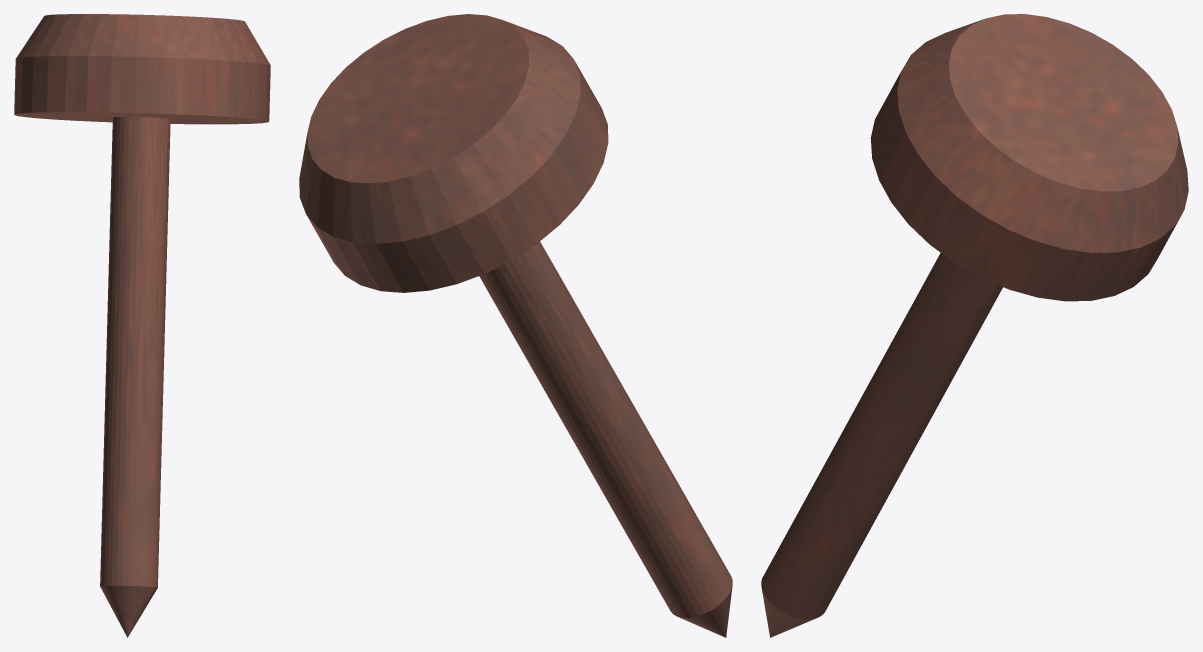
Rendered from Clavo.glb.
3 views of the same model, side by side, from view 1: azimuth 30°, elevation 25°; view 2: azimuth 150°, elevation 25°; view 3: azimuth 270°, elevation 25° (orthographic). The views are drawn at different scales.
Parts seen in each view (by area): view 1: Cylinder; view 2: Cylinder; view 3: Cylinder.
Boxes of the visible parts, x1,y1,x2,y2 form: Cylinder: (14, 14, 270, 637); Cylinder: (299, 14, 732, 637); Cylinder: (761, 14, 1188, 637).
Bounding box in the file's own units: 0.1971 × 0.4142 × 0.24.
1 material, 1 textured.
